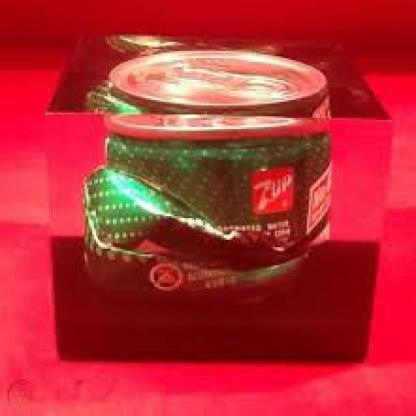Compsot: (81, 51, 331, 292)
